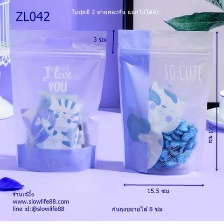snack: (4, 24, 110, 176), (112, 25, 217, 178)
